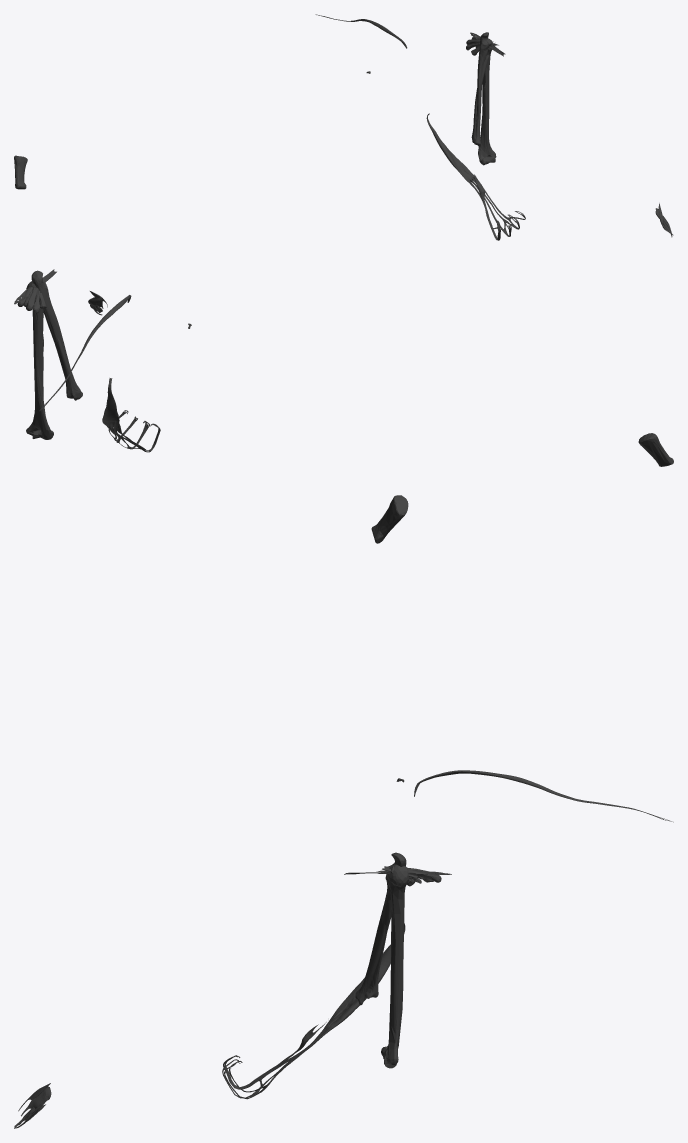
Rendered from sharedassets8.glb.
The picture shows the model from 3 angles, top to bottom: view 1: azimuth 30°, elevation 25°; view 2: azimuth 150°, elevation 25°; view 3: azimuth 270°, elevation 25°; orthographic projection. The views are drawn at different scales.
Visible parts, largest first — view 1: 0044_Extensor digitorum, R__1000138, 0000_Humerus _arm, brachium_, R__000807, 0001_Ulna _forearm, antebrachium_, R__000808, 0007_2nd Middle phalanx _hand_, R__000815; view 2: 0000_Humerus _arm, brachium_, R__000807, 0044_Extensor digitorum, R__1000138, 0001_Ulna _forearm, antebrachium_, R__000808, 0002_Radius _forearm, antebrachium_, R__00080, 0007_2nd Middle phalanx _hand_, R__000815, 0043_Extensor digiti minimi, R__1000132; view 3: 0000_Humerus _arm, brachium_, R__000807, 0044_Extensor digitorum, R__1000138, 0001_Ulna _forearm, antebrachium_, R__000808.
Boxes of the visible parts, x1=… form: 0044_Extensor digitorum, R__1000138: x1=426, y1=113, x2=525, y2=240; 0000_Humerus _arm, brachium_, R__000807: x1=478, y1=38, x2=496, y2=165; 0001_Ulna _forearm, antebrachium_, R__000808: x1=474, y1=32, x2=491, y2=147; 0007_2nd Middle phalanx _hand_, R__000815: x1=14, y1=155, x2=27, y2=189; 0000_Humerus _arm, brachium_, R__000807: x1=26, y1=281, x2=53, y2=439; 0044_Extensor digitorum, R__1000138: x1=102, y1=378, x2=160, y2=452; 0001_Ulna _forearm, antebrachium_, R__000808: x1=31, y1=270, x2=82, y2=400; 0002_Radius _forearm, antebrachium_, R__00080: x1=43, y1=309, x2=81, y2=398; 0007_2nd Middle phalanx _hand_, R__000815: x1=638, y1=433, x2=673, y2=466; 0043_Extensor digiti minimi, R__1000132: x1=39, y1=295, x2=131, y2=410; 0000_Humerus _arm, brachium_, R__000807: x1=381, y1=864, x2=409, y2=1068; 0044_Extensor digitorum, R__1000138: x1=222, y1=923, x2=405, y2=1099; 0001_Ulna _forearm, antebrachium_, R__000808: x1=355, y1=852, x2=406, y2=1005.
Bounding box in the file's own units: 0.7467 × 0.2269 × 0.4787.
Materials: 1 (1 with a texture image).
